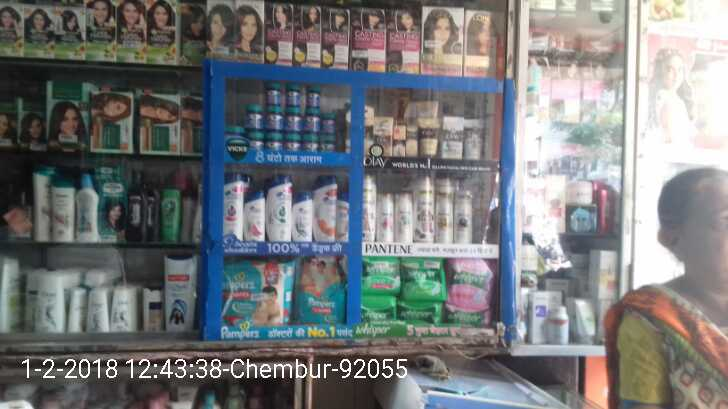vicks: (224, 82, 336, 151)
